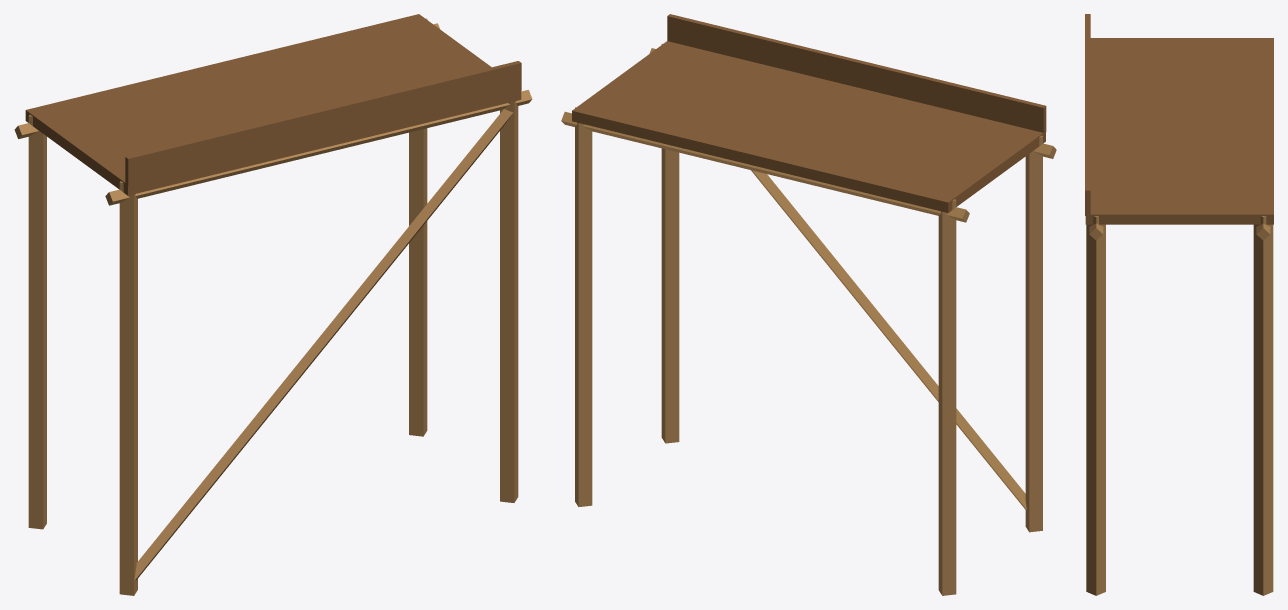
Rendered from castle_scaffold.glb.
The picture shows the model from 3 angles, left to right: view 1: azimuth 30°, elevation 25°; view 2: azimuth 150°, elevation 25°; view 3: azimuth 270°, elevation 25°; orthographic projection. The views are drawn at different scales.
Visible parts, largest first — view 1: castle_scaffold; view 2: castle_scaffold; view 3: castle_scaffold.
Part boxes in pixels (x1,y1,x2,y2): castle_scaffold: (14, 14, 532, 595); castle_scaffold: (561, 14, 1056, 595); castle_scaffold: (1085, 14, 1273, 595).
Bounding box in the file's own units: 3.2 × 3.2 × 1.36.
